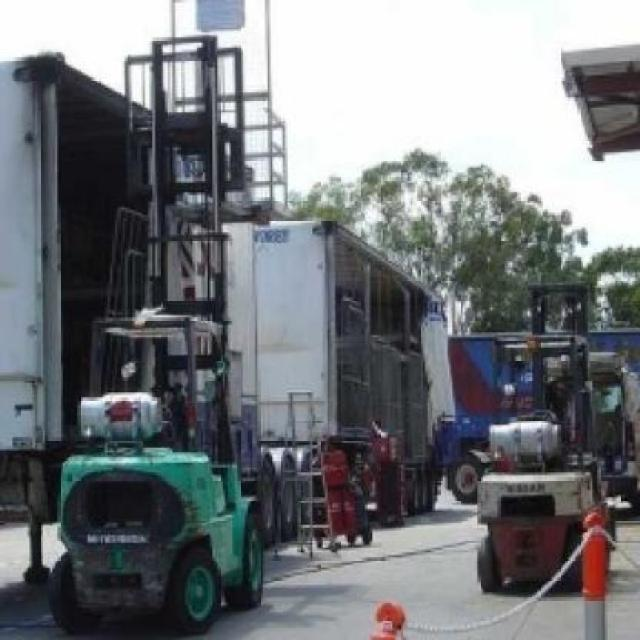forklift: (50, 38, 265, 635), (479, 285, 597, 596)
